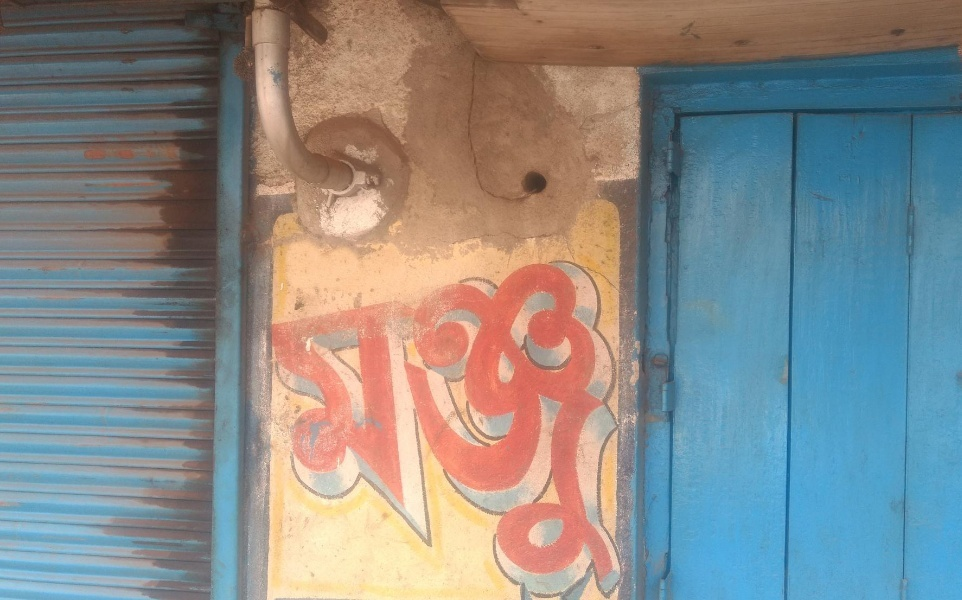text: (273, 250, 288, 599), (289, 250, 304, 599), (305, 250, 320, 599), (321, 250, 336, 599), (337, 250, 352, 599), (353, 250, 368, 599), (369, 250, 384, 599), (385, 250, 400, 599), (401, 250, 416, 599), (417, 250, 432, 599), (433, 250, 448, 599), (449, 250, 464, 599), (465, 250, 480, 599), (481, 250, 496, 599), (497, 250, 512, 599), (513, 250, 528, 599), (529, 250, 544, 599), (545, 250, 560, 599), (561, 250, 576, 599), (577, 250, 592, 599), (593, 250, 608, 599), (609, 250, 624, 599), (625, 250, 640, 599), (265, 250, 272, 599), (641, 250, 642, 599)
